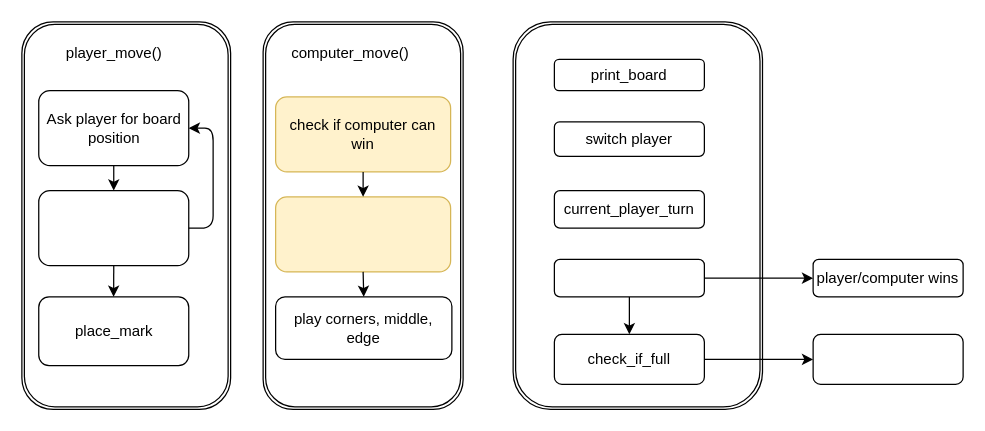
This 985x431 diagram has some shape labels left out. Each missing label, with the box of its shape:
check if computer can block player: (274, 196, 451, 272)
check if valid and available, if not ask again: (38, 189, 189, 266)
check_if_win: (553, 258, 704, 297)
If board full, then output tie: (812, 333, 963, 384)
